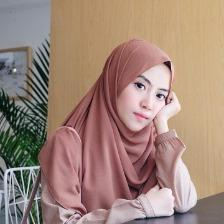HijabSyar-i: (36, 38, 174, 216)
